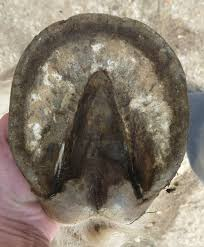horsesole: (8, 13, 189, 202)
